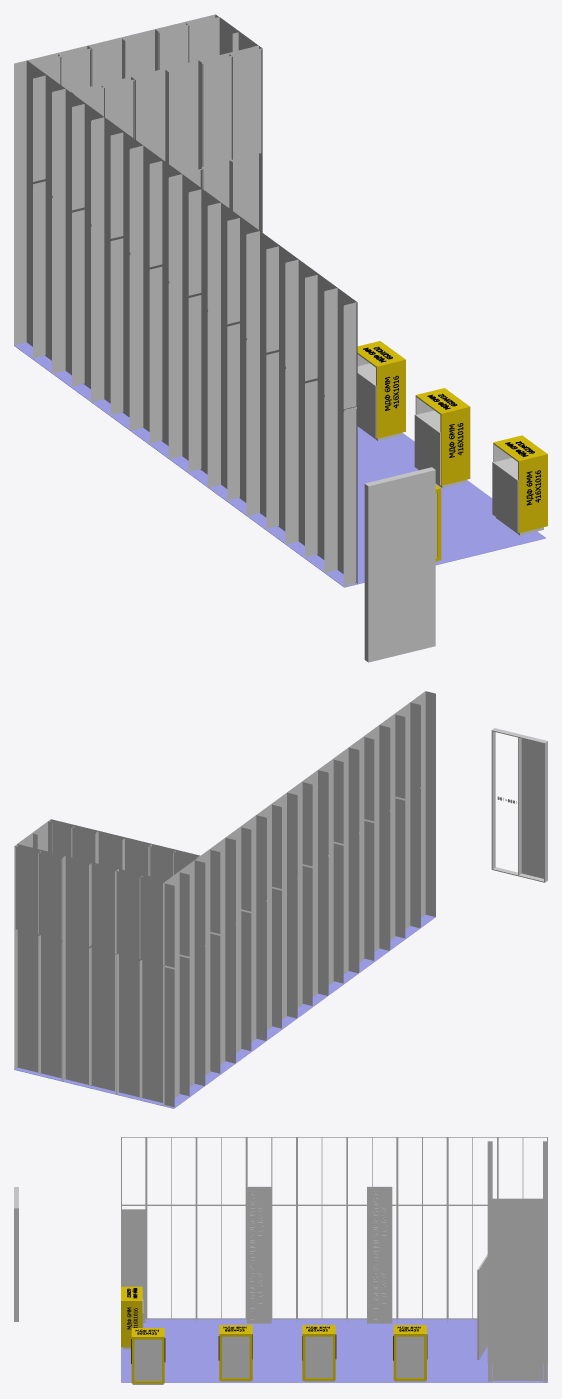
Rendered from фигня_ 5 .glb.
3 views of the same model, one above another, from view 1: azimuth 30°, elevation 25°; view 2: azimuth 150°, elevation 25°; view 3: azimuth 270°, elevation 25° (orthographic). The views are drawn at different scales.
Parts seen in each view (by area): view 1: Geom3D_Короб 2500×1000×200 (×8), Geom3D_Короб 1500×1000×200 (×8), Geom3D_ (×4), Geom3D_Короб 2500×1000×100#1, Geom3D_Короб 1500×900×100 (×4), Geom3D_Короб 1500×1000×100 (×3), Geom3D_Короб 2500×500×200, Geom3D_Короб 1500×500×200, Geom3D_Короб 2500×900×100; view 2: Geom3D_Короб 2500×1000×200 (×8), Geom3D_Короб 1500×1000×200 (×8), Geom3D_Короб 2500×900×100 (×2), Geom3D_Короб 1500×900×100 (×4), Geom3D_Короб 2500×1000×100, Geom3D_Короб 1500×1000×100 (×3), Geom3D_Короб 2500×1000×100#1, Geom3D_ (×3), Geom3D_Короб 2500×500×200, Geom3D_Короб 1500×500×200; view 3: Geom3D_ (×19), Geom3D_Короб 2500×1000×100, Geom3D_Короб 2500×1000×200 (×7), Geom3D_Короб 1500×1000×100, Geom3D_Короб 1500×1000×200 (×7), Geom3D_Короб 2500×500×200, Geom3D_ЛДСП БЕЛОЕ 1500Х (×4), Geom3D_Короб 2500×900×100 (×2), Geom3D_Короб 1500×900×100 (×2), Geom3D_Короб 2500×1000×100#1.
Part boxes in pixels (x1=…): Geom3D_Короб 2500×1000×200 (×8): x1=14, y1=166, x2=324, y2=572; Geom3D_Короб 1500×1000×200 (×8): x1=14, y1=60, x2=337, y2=396; Geom3D_ (×4): x1=14, y1=342, x2=546, y2=587; Geom3D_Короб 2500×1000×100#1: x1=364, y1=467, x2=435, y2=662; Geom3D_Короб 1500×900×100 (×4): x1=27, y1=14, x2=262, y2=168; Geom3D_Короб 1500×1000×100 (×3): x1=88, y1=17, x2=258, y2=170; Geom3D_Короб 2500×500×200: x1=325, y1=394, x2=357, y2=586; Geom3D_Короб 1500×500×200: x1=325, y1=288, x2=357, y2=410; Geom3D_Короб 2500×900×100: x1=202, y1=153, x2=262, y2=232; Geom3D_Короб 2500×1000×200 (×8): x1=163, y1=786, x2=420, y2=1107; Geom3D_Короб 1500×1000×200 (×8): x1=163, y1=702, x2=420, y2=967; Geom3D_Короб 2500×900×100 (×2): x1=14, y1=929, x2=163, y2=1104; Geom3D_Короб 1500×900×100 (×4): x1=14, y1=819, x2=199, y2=964; Geom3D_Короб 2500×1000×100: x1=62, y1=939, x2=115, y2=1092; Geom3D_Короб 1500×1000×100 (×3): x1=17, y1=821, x2=151, y2=953; Geom3D_Короб 2500×1000×100#1: x1=491, y1=728, x2=547, y2=882; Geom3D_ (×3): x1=14, y1=804, x2=435, y2=1108; Geom3D_Короб 2500×500×200: x1=420, y1=775, x2=435, y2=926; Geom3D_Короб 1500×500×200: x1=410, y1=691, x2=435, y2=787; Geom3D_ (×19): x1=121, y1=1186, x2=547, y2=1383; Geom3D_Короб 2500×1000×100: x1=492, y1=1267, x2=542, y2=1382; Geom3D_Короб 2500×1000×200 (×7): x1=146, y1=1205, x2=487, y2=1322; Geom3D_Короб 1500×1000×100: x1=492, y1=1198, x2=542, y2=1268; Geom3D_Короб 1500×1000×200 (×7): x1=146, y1=1137, x2=497, y2=1208; Geom3D_Короб 2500×500×200: x1=121, y1=1205, x2=145, y2=1322; Geom3D_ЛДСП БЕЛОЕ 1500Х (×4): x1=249, y1=1191, x2=387, y2=1320; Geom3D_Короб 2500×900×100 (×2): x1=487, y1=1250, x2=547, y2=1382; Geom3D_Короб 1500×900×100 (×2): x1=487, y1=1181, x2=547, y2=1268; Geom3D_Короб 2500×1000×100#1: x1=14, y1=1187, x2=18, y2=1321.
Size of the model in its own units: 4.02 by 4.01 by 10.63.
